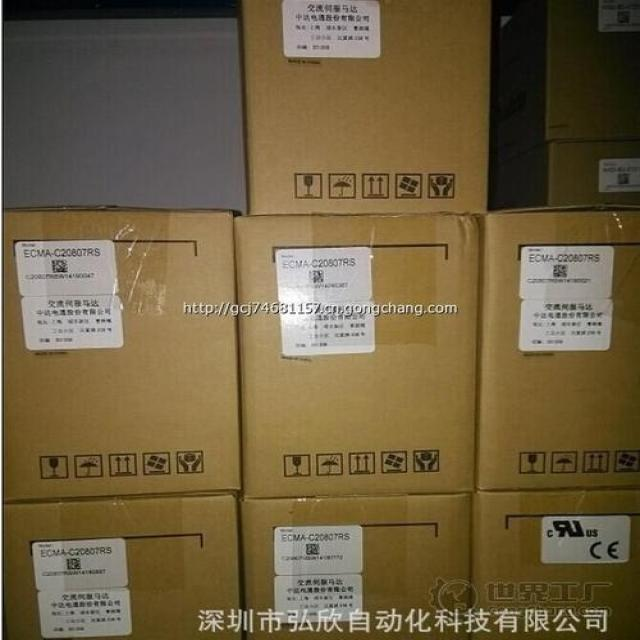box: (1, 206, 243, 503), (234, 215, 481, 497), (242, 0, 490, 217), (472, 202, 640, 490), (1, 489, 243, 640), (243, 493, 474, 640), (470, 488, 640, 640), (490, 1, 640, 166), (489, 141, 640, 214)
